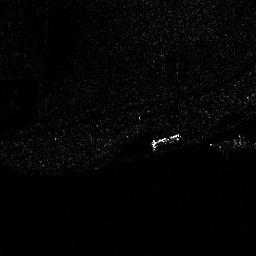ship: (151, 134, 183, 149)
